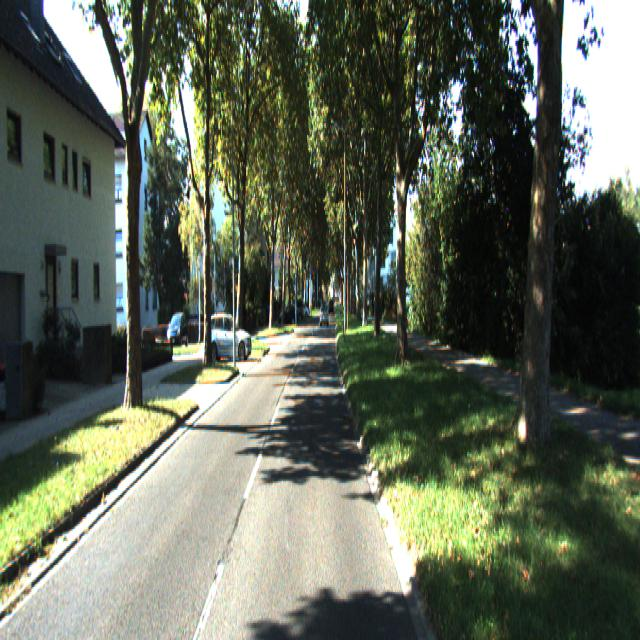Car: (203, 313, 253, 361)
